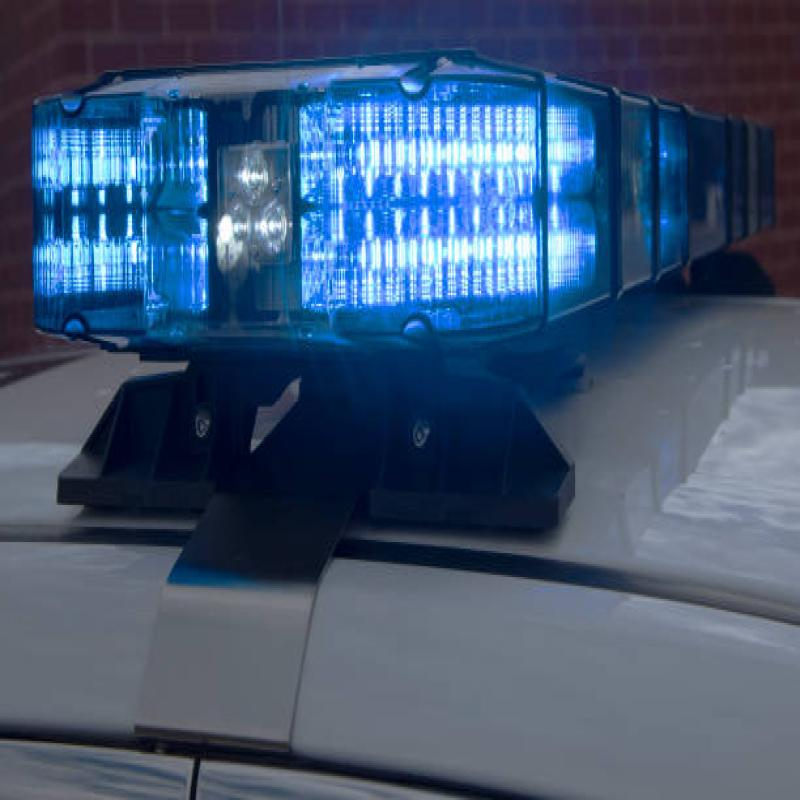AmbulanceSiren: (15, 62, 800, 358)
